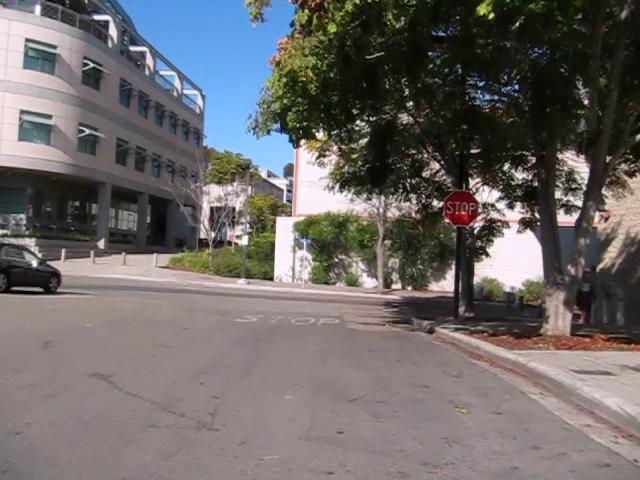stop: (442, 189, 479, 226)
